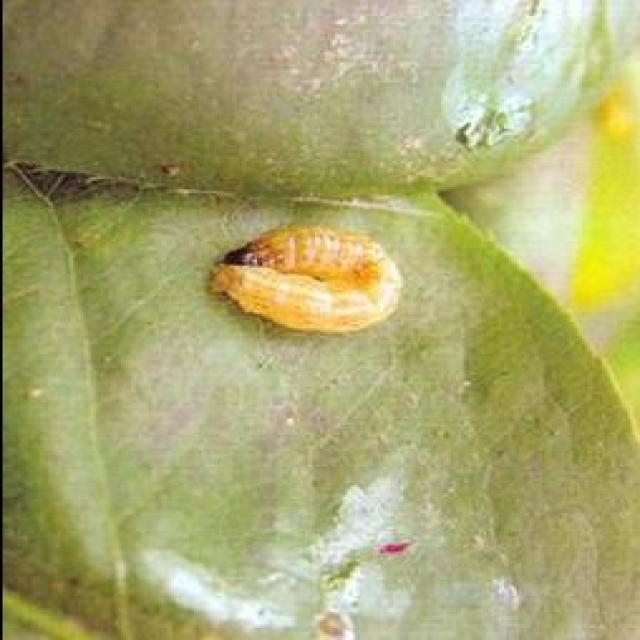peach borer: (205, 221, 402, 336)
